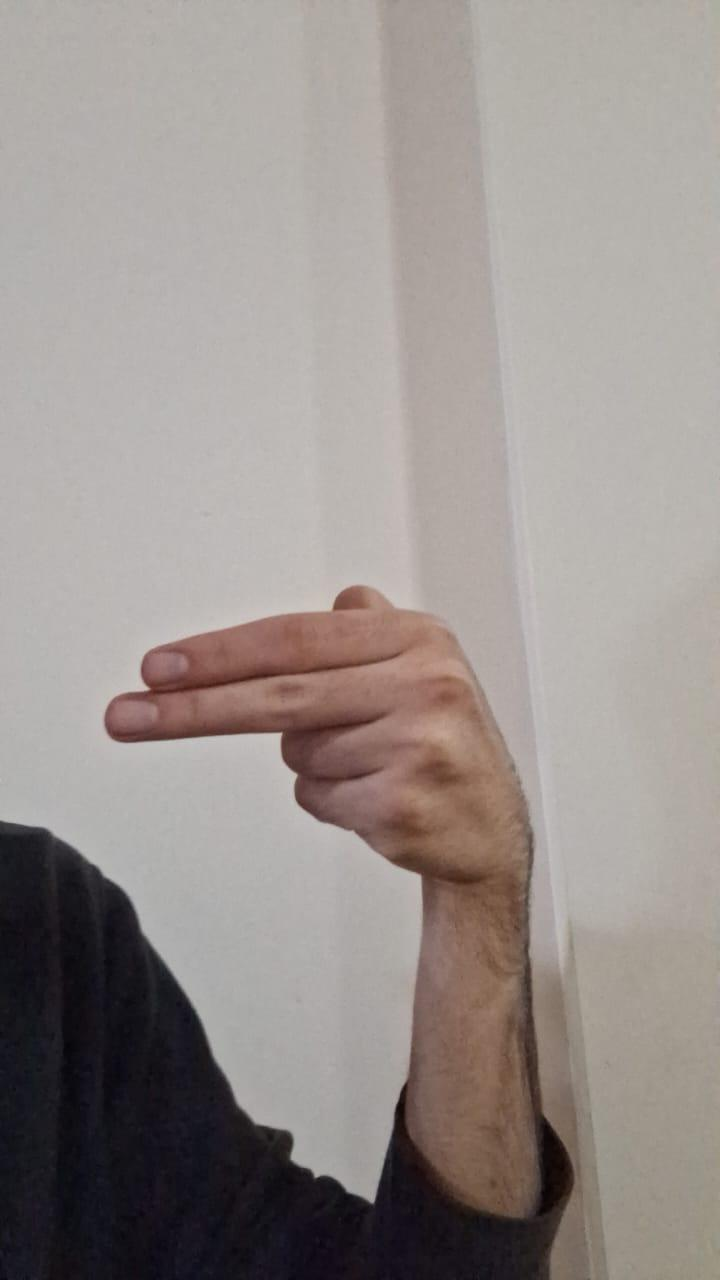N: (96, 574, 547, 901)
